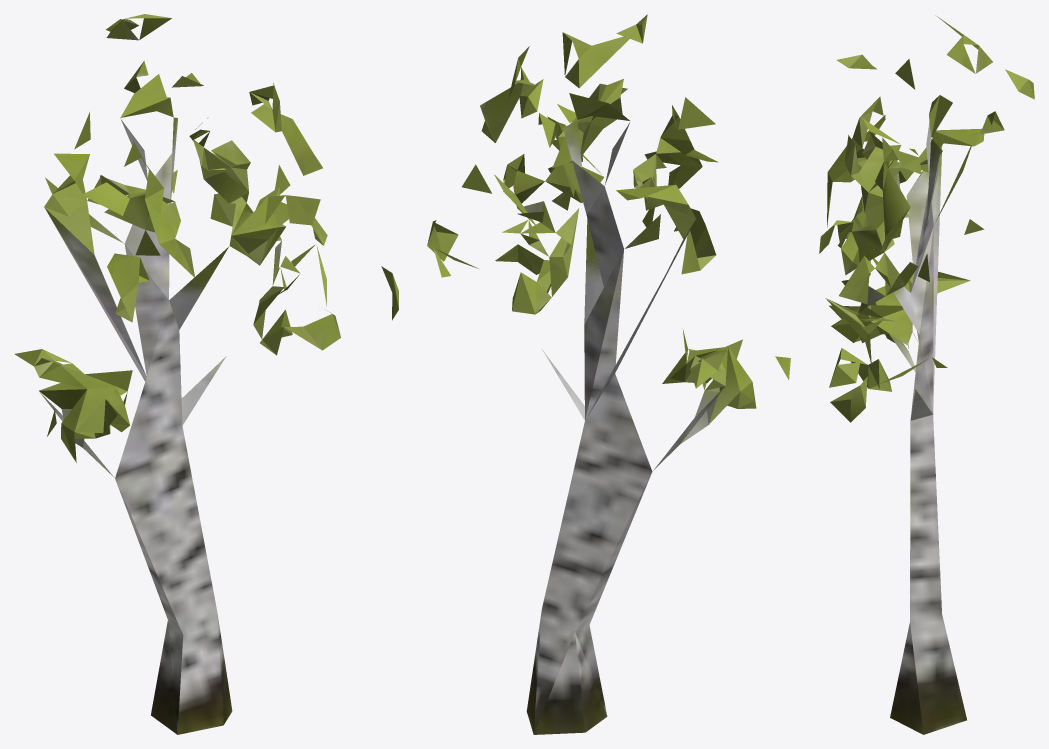
File: tree_birch.lod3.glb
3 views of the same model, side by side, from view 1: azimuth 30°, elevation 25°; view 2: azimuth 150°, elevation 25°; view 3: azimuth 270°, elevation 25° (orthographic). The views are drawn at different scales.
Parts seen in each view (by area): view 1: tree_birch.lod3_uv; view 2: tree_birch.lod3_uv; view 3: tree_birch.lod3_uv.
Boxes of the visible parts, x1,y1,x2,y2 form: tree_birch.lod3_uv: (14, 14, 398, 734); tree_birch.lod3_uv: (427, 14, 790, 734); tree_birch.lod3_uv: (819, 15, 1034, 734).
Size of the model in its own units: 0.9583 by 1.83 by 0.5366.
1 material, 1 textured.
